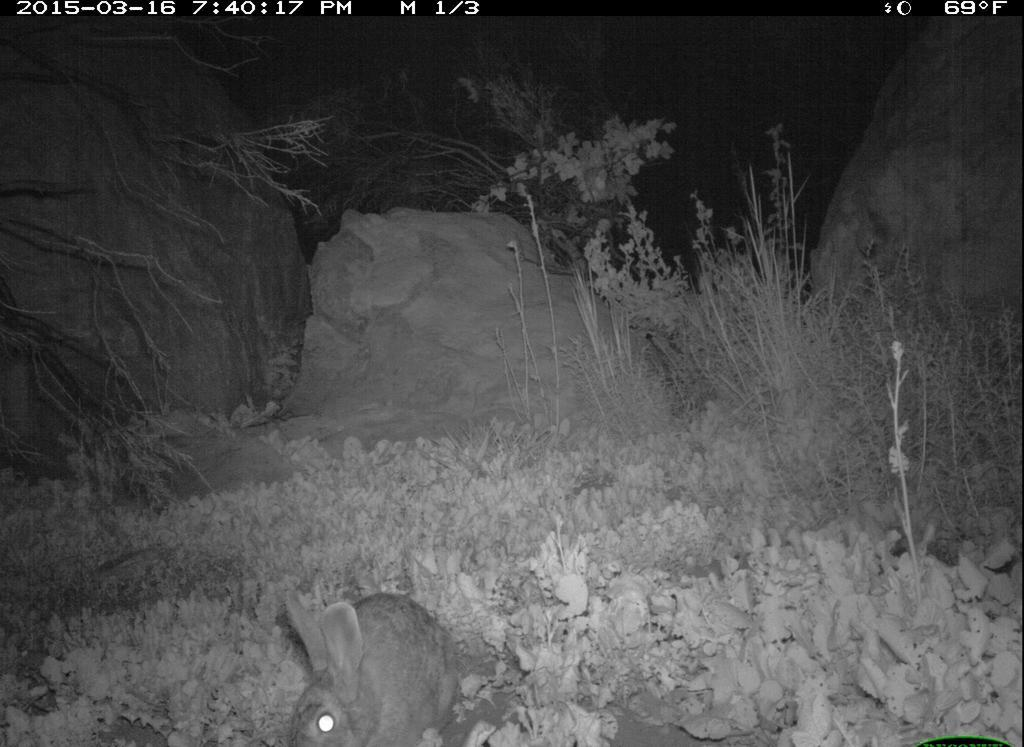rabbit: (268, 580, 483, 747)
